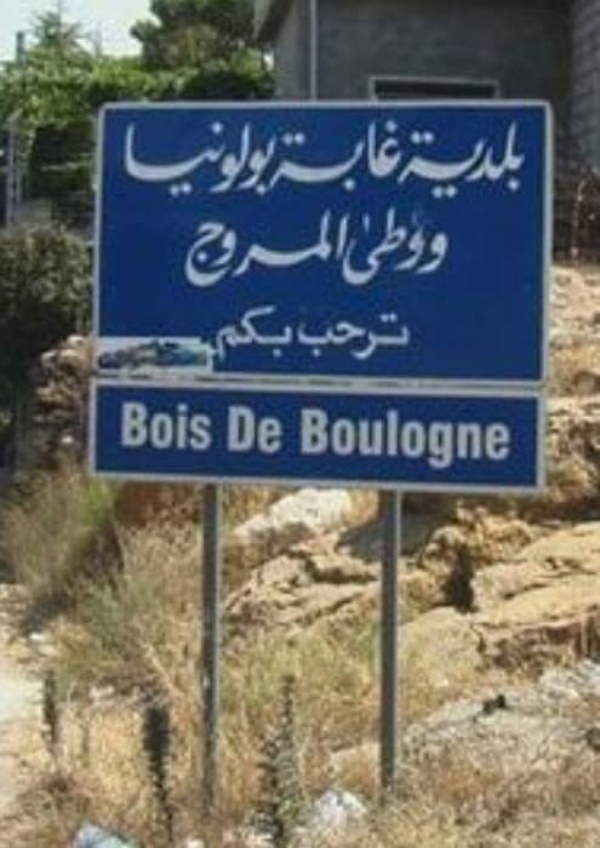text: (129, 114, 144, 203), (145, 114, 160, 203), (161, 114, 176, 203), (177, 114, 192, 203), (193, 114, 208, 203), (209, 114, 224, 203), (225, 114, 240, 203), (241, 114, 256, 203), (257, 114, 272, 203), (513, 119, 529, 202), (193, 204, 208, 291), (209, 204, 224, 291), (225, 204, 240, 291), (241, 204, 256, 291), (257, 204, 272, 291), (273, 204, 288, 291), (289, 204, 304, 291), (305, 204, 320, 291), (321, 204, 336, 291), (337, 204, 352, 291), (353, 204, 368, 291), (369, 204, 384, 291), (385, 204, 400, 291), (401, 204, 416, 291), (417, 204, 432, 291), (433, 204, 448, 291), (401, 119, 416, 202), (417, 119, 432, 202), (433, 119, 448, 202), (449, 119, 464, 202), (465, 119, 480, 202), (481, 119, 496, 202), (497, 119, 512, 202), (273, 117, 288, 200), (289, 117, 304, 200), (305, 117, 320, 200), (321, 117, 336, 200), (337, 117, 352, 200), (353, 117, 368, 200), (369, 117, 384, 200), (385, 117, 400, 200), (305, 403, 320, 472), (321, 403, 336, 472), (337, 403, 352, 472), (353, 403, 368, 472), (369, 403, 384, 472), (385, 403, 400, 472), (401, 403, 416, 472), (417, 403, 432, 472), (433, 403, 448, 472), (449, 403, 464, 472), (465, 403, 480, 472), (481, 403, 496, 472), (497, 403, 512, 472), (225, 302, 240, 365), (241, 302, 256, 365), (257, 302, 272, 365), (273, 302, 288, 365), (119, 114, 128, 203), (129, 400, 144, 452), (145, 400, 160, 452), (161, 400, 176, 452), (177, 400, 192, 452), (193, 400, 208, 452), (305, 311, 320, 362), (321, 311, 336, 362), (337, 311, 352, 362), (353, 311, 368, 362), (369, 311, 384, 362), (385, 311, 400, 362), (241, 403, 256, 454), (257, 403, 272, 454), (273, 403, 287, 454), (227, 403, 240, 454), (401, 311, 413, 362), (393, 119, 400, 202), (215, 302, 224, 365), (296, 403, 304, 472), (273, 114, 279, 203), (449, 204, 455, 291), (266, 117, 272, 200), (401, 117, 407, 200), (295, 311, 304, 362), (289, 302, 296, 365), (188, 204, 192, 291), (122, 400, 128, 452), (513, 403, 517, 472), (209, 400, 214, 452)
